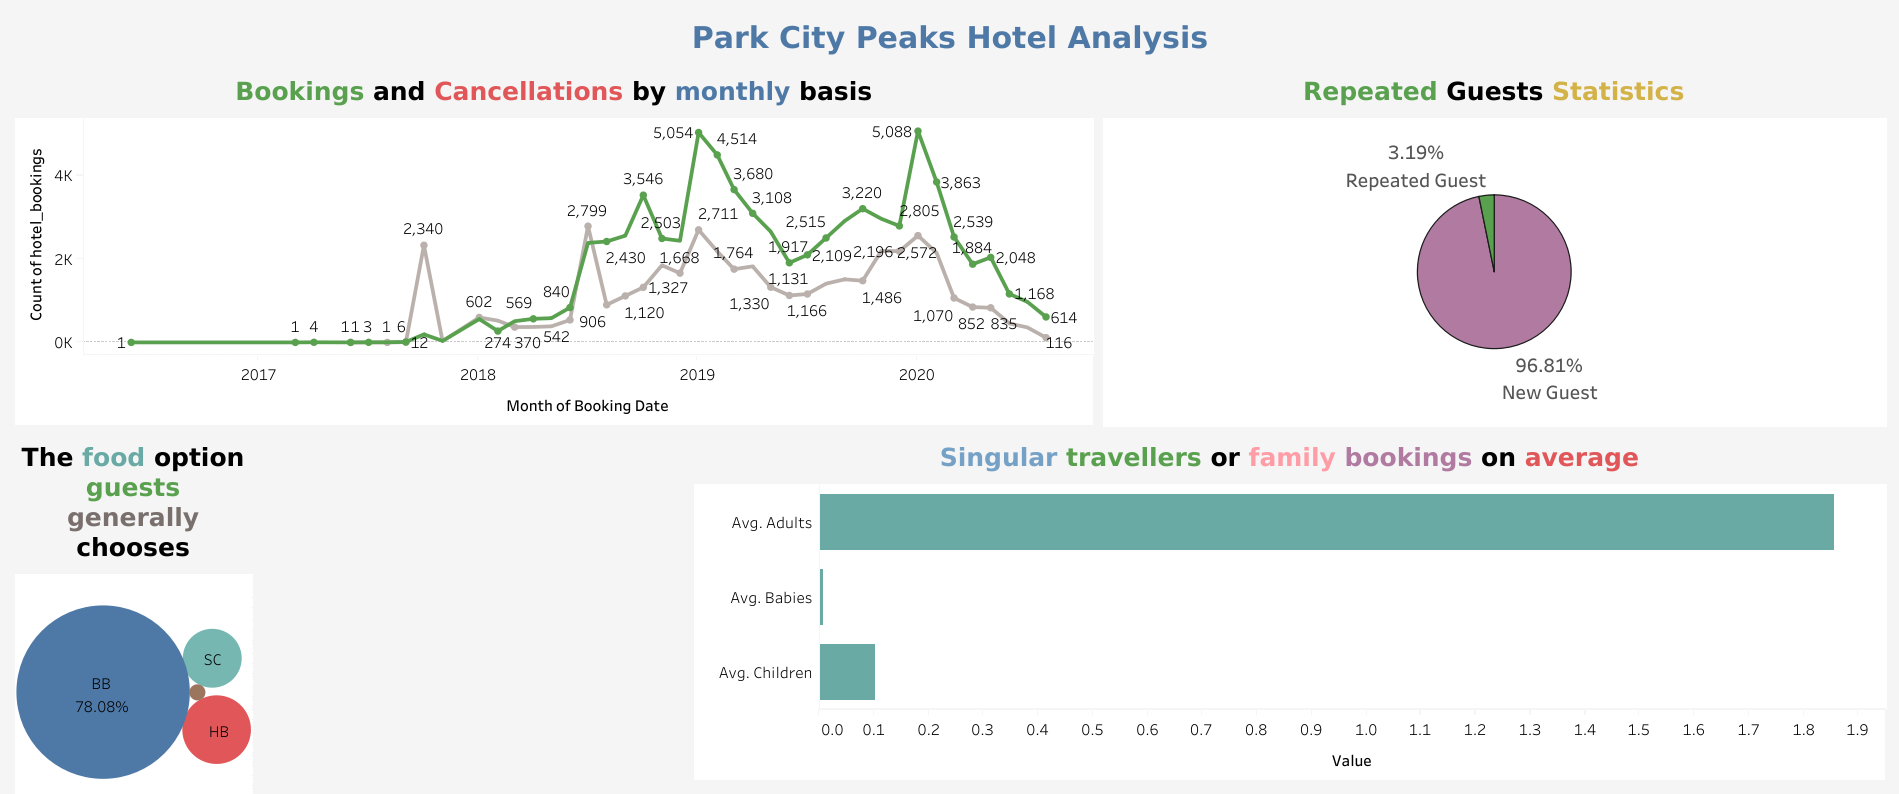

The page's visual inventory and layout, read from the dashboard file:
{"tool":"tableau","page":{"name":"Dashboard 1","canvas":[1000,1000],"units":"permille","ordinal":0},"visuals":[{"type":"text","box":[5,10,989.9,67.3]},{"type":"worksheet","title":"Bookings and Cancellations by monthly basis","mark":"Automatic","rows":["hotel!bookings_64F4080B86A4408BBB850A6297C13EA6"],"cols":["booking_date"],"box":[5,77.2,572.6,464.4]},{"type":"worksheet","title":"Repeated Guests Statistics","mark":"Pie","box":[577.6,77.2,417.4,464.4]},{"type":"worksheet","title":"The food option guests generally chooses","mark":"Circle","box":[5,541.7,357.6,448.4]},{"type":"worksheet","title":"singular travellers or family bookings on average","mark":"Automatic","box":[362.6,541.7,632.3,448.4]}]}

Visuals, with their boxes on the dashboard's canvas, which has no fixed pixel size, in thousandths of its width and height (x1, y1, x2, y2). These are canvas units, not pixel positions in the 1899x794 screenshot, which may show the page scaled, cropped or inside an application window:
text: crop(5, 10, 995, 77)
"Bookings and Cancellations by monthly basis" worksheet: crop(5, 77, 578, 542)
"Repeated Guests Statistics" worksheet (Pie marks): crop(578, 77, 995, 542)
"The food option guests generally chooses" worksheet (Circle marks): crop(5, 542, 363, 990)
"singular travellers or family bookings on average" worksheet: crop(363, 542, 995, 990)
